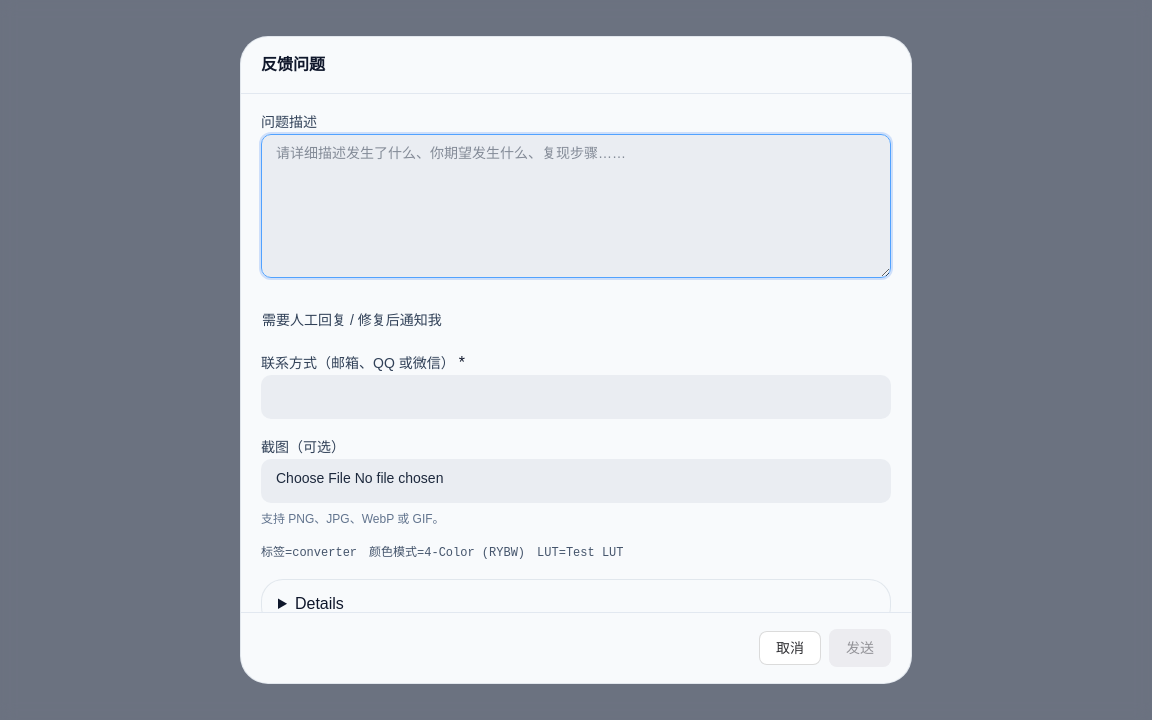
BugReportModal › warns when an oversized original could not be saved
The image size is (1152, 720).
Type "Large source failed." into the text box labelled "问题描述".
click(576, 206); type("Large source failed.")  # box [261,134,891,278]
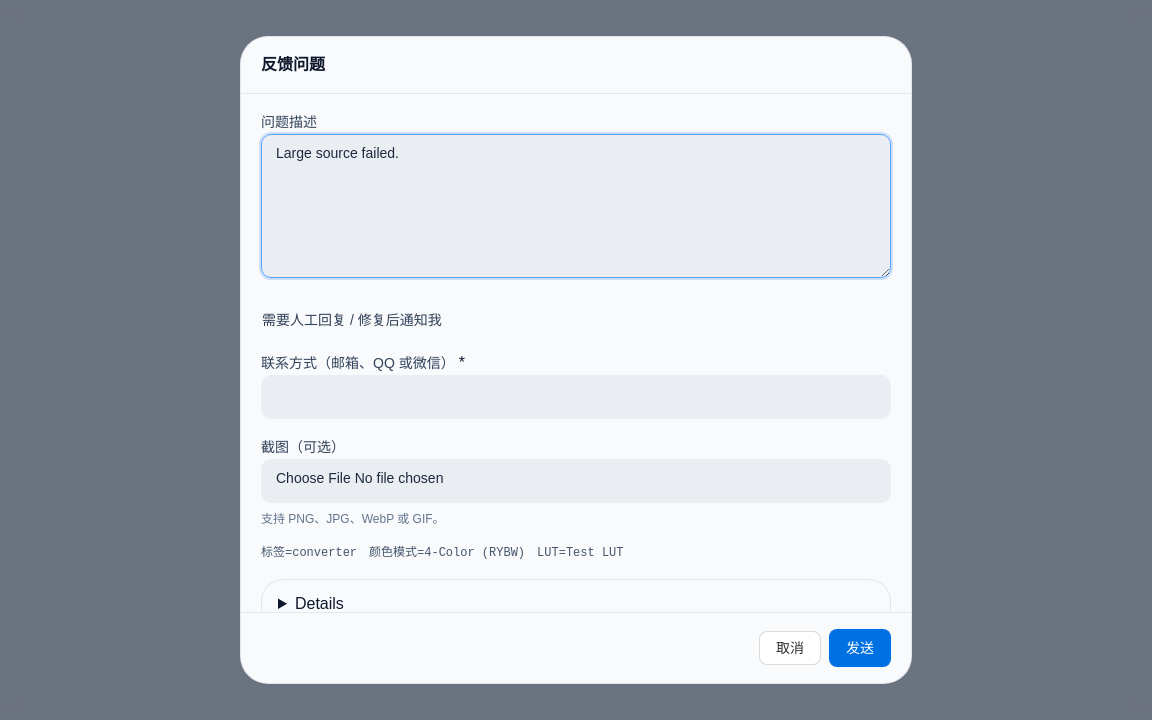
Click the switch labelled "需要人工回复 / 修复后通知我".
click(352, 320)  # box [262,310,442,330]
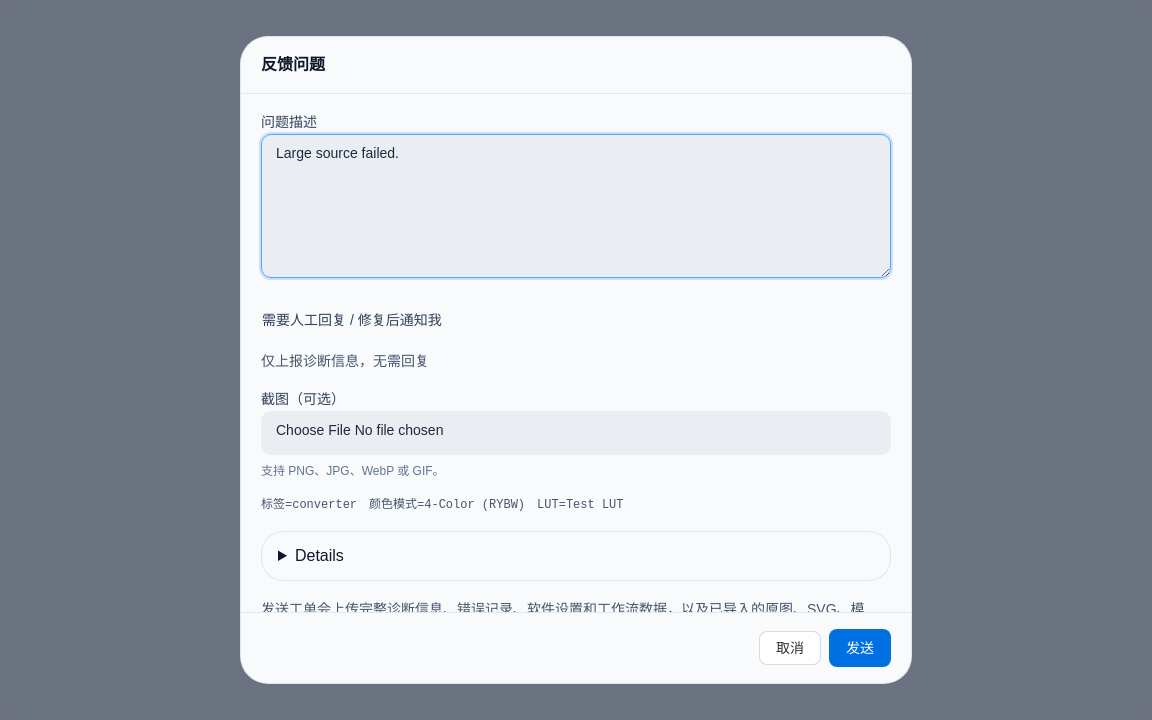
Click the button "发送".
click(860, 648)  # box [829,629,891,667]
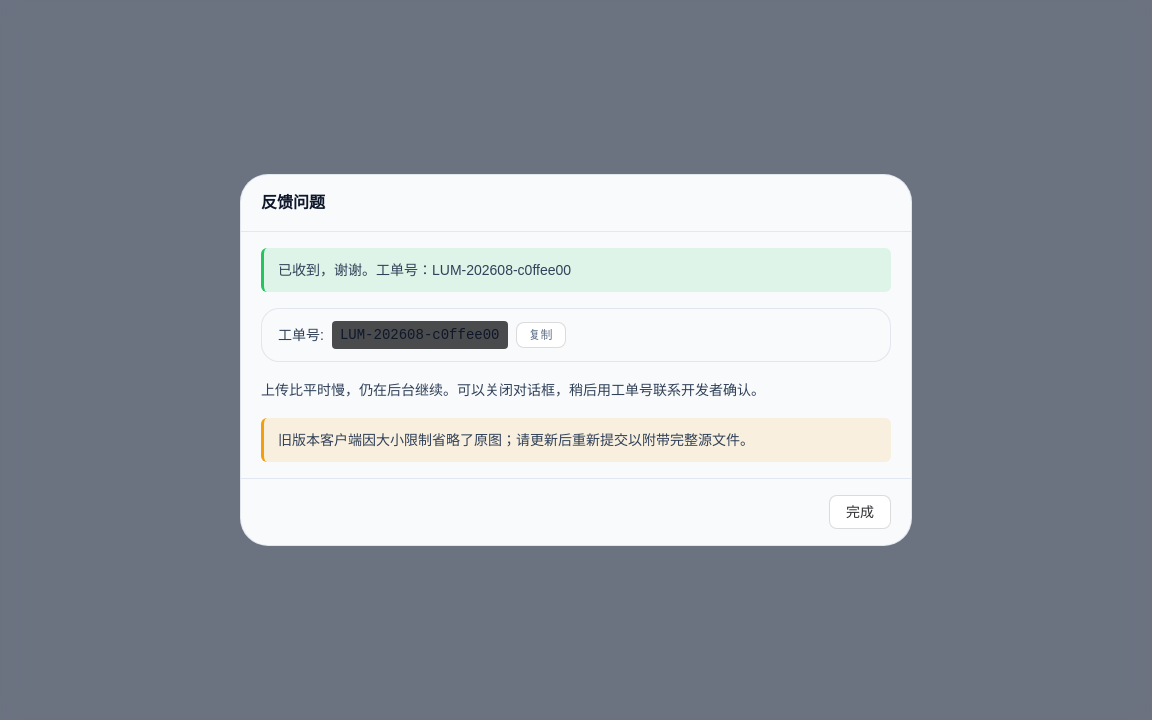
Expected: the text with test id "bug-report-original-image-status" shows "旧版本客户端因大小限制省略了原图", [278,432,754,448]
